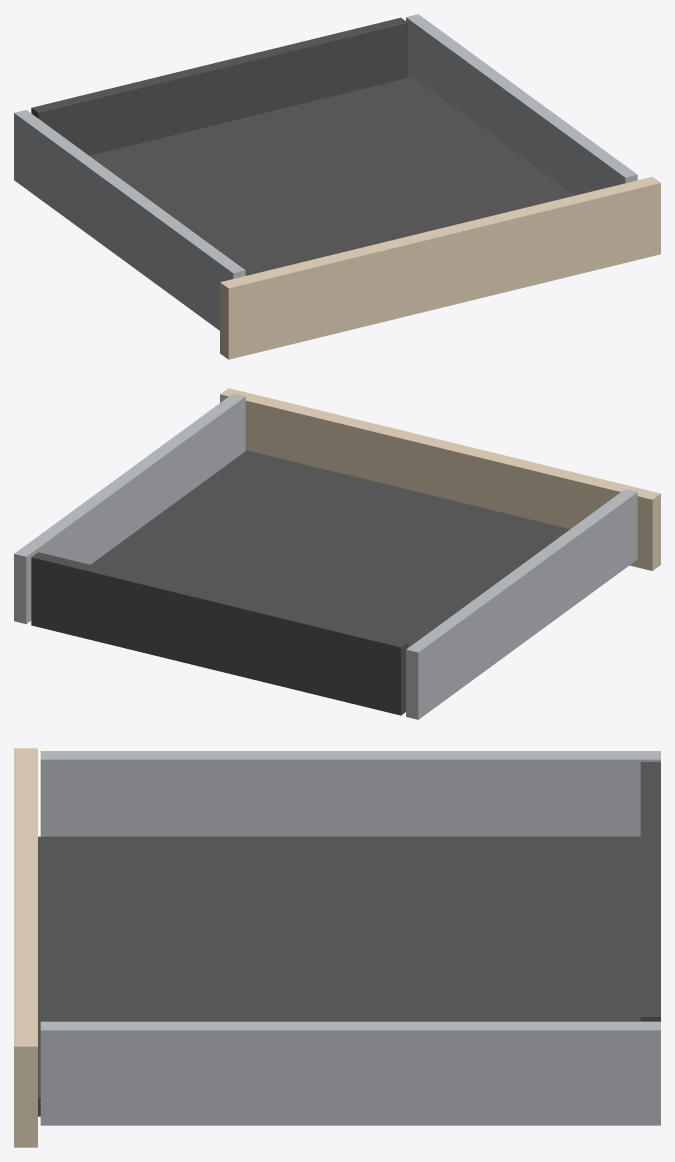
Rendered from M5_innv2.glb.
3 views of the same model, one above another, from view 1: azimuth 30°, elevation 25°; view 2: azimuth 150°, elevation 25°; view 3: azimuth 270°, elevation 25° (orthographic). The views are drawn at different scales.
Bounding box in the file's own units: 558 × 95 × 511.
